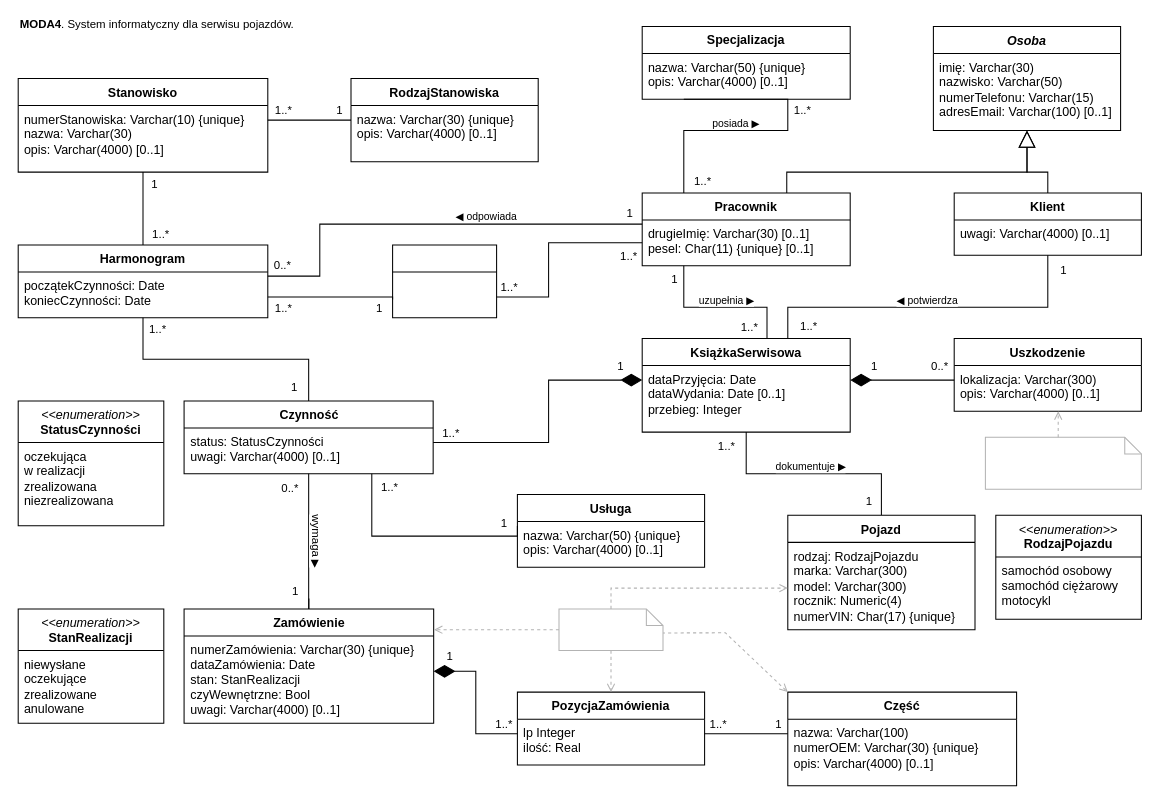
Image size: 1160x806. Some labels were removed from this diagram. The centre of each missing label's shape, as x and y in pixels:
dane do EDI: the point at 610,629
dotyczy uszkodzeń zaobserwowa nych przez pracownika serwisu: the point at 1062,462
Zespół: the point at 444,281
